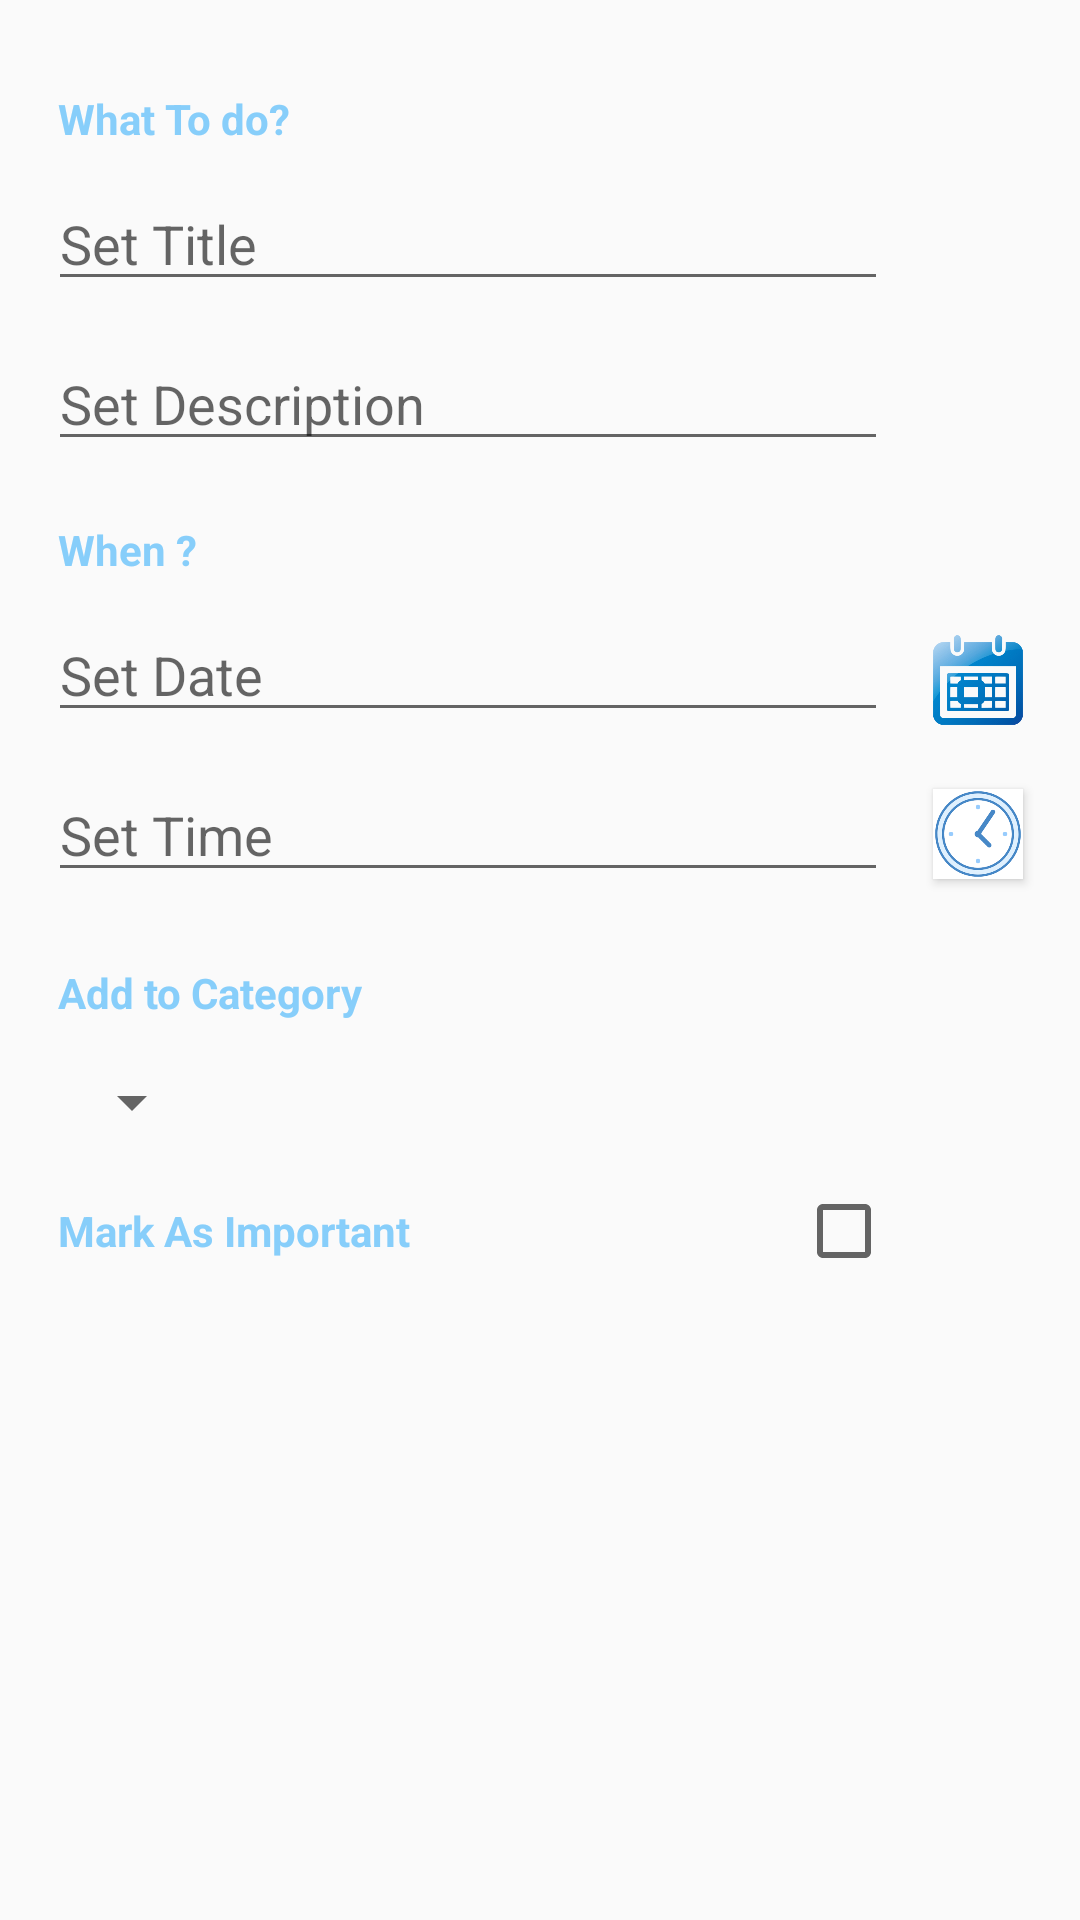

Icon click points for this 1080x1920 phone screenshot, format [x,y]:
clock: [978,834]
